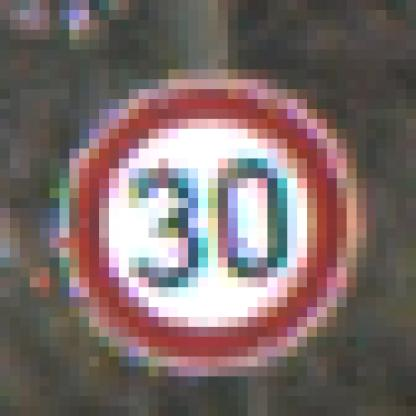Speed Limit 30: (68, 86, 350, 365)
